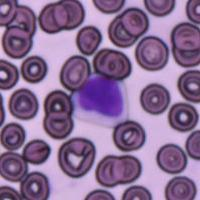M: (70, 72, 130, 127)
